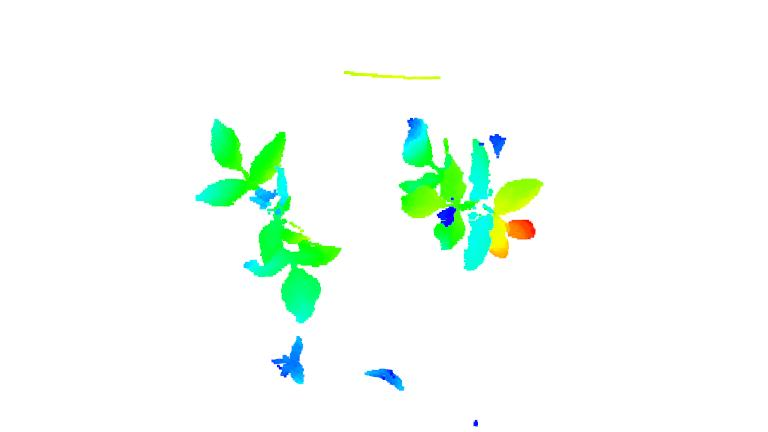mungbean: (191, 117, 350, 326), (394, 114, 544, 274)
